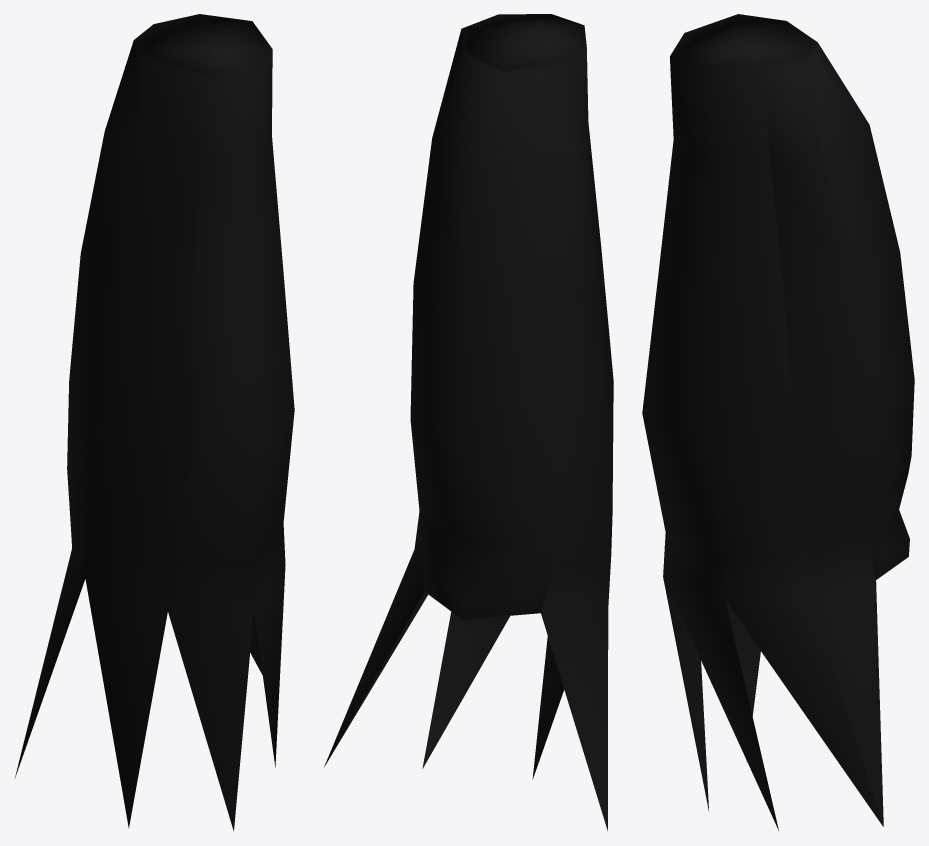
The model's file is left_leg.glb.
The picture shows the model from 3 angles, left to right: view 1: azimuth 30°, elevation 25°; view 2: azimuth 150°, elevation 25°; view 3: azimuth 270°, elevation 25°; orthographic projection. The views are drawn at different scales.
Parts seen in each view (by area): view 1: trousers-black_LEFT_LEG; view 2: trousers-black_LEFT_LEG; view 3: trousers-black_LEFT_LEG.
Part boxes in pixels (left/top/right/bottom): trousers-black_LEFT_LEG: left=15, top=14, right=294, bottom=831; trousers-black_LEFT_LEG: left=324, top=14, right=613, bottom=830; trousers-black_LEFT_LEG: left=642, top=14, right=914, bottom=830.
Bounding box in the file's own units: 0.227 × 0.6197 × 0.1991.
Materials: 1 (1 with a texture image).
